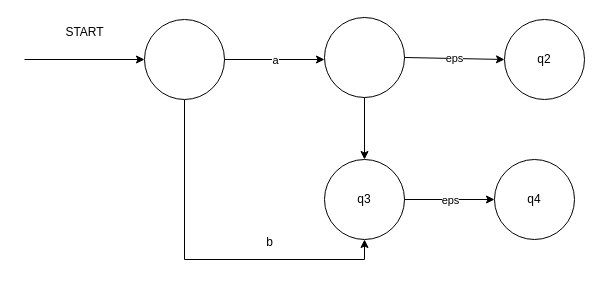
The diagram is 602 pixels wide and 285 high, and some of its shapes have lost their labels. Here are the shapes that lost their labels. From the top down, the centre of each, then its label:
the point at 184,59: q0
the point at 364,57: q1
